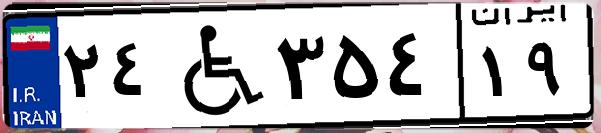1: (475, 38, 525, 113)
2: (57, 26, 110, 100)
3: (270, 28, 330, 110)
4: (385, 28, 445, 110), (110, 28, 158, 98)
5: (330, 28, 385, 110)
9: (525, 38, 570, 115)
ژ (معلولین و جانبازان): (158, 12, 270, 120)
